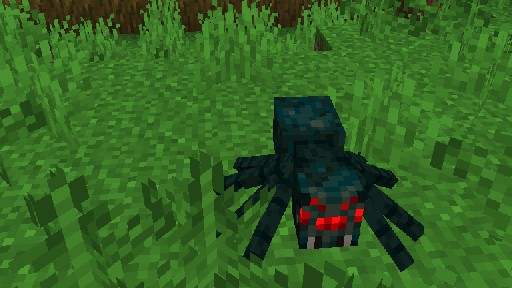cave_spider: (209, 95, 424, 280)
